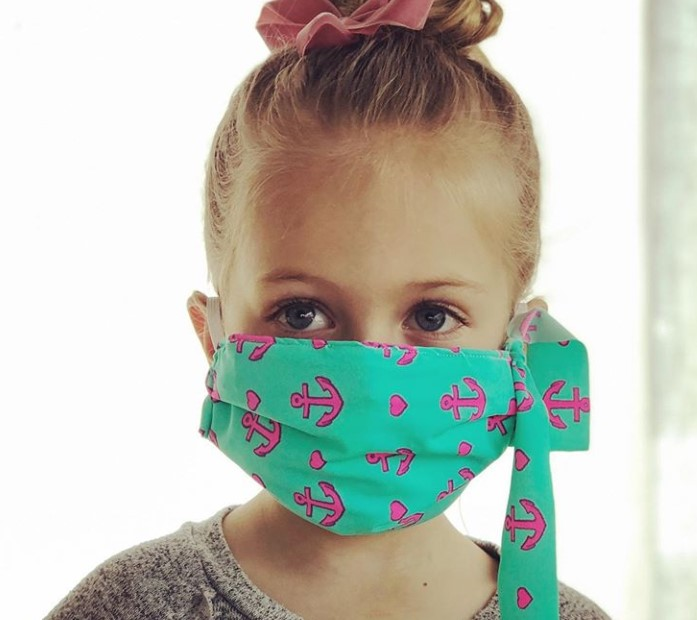face_with_mask: (187, 35, 572, 541)
